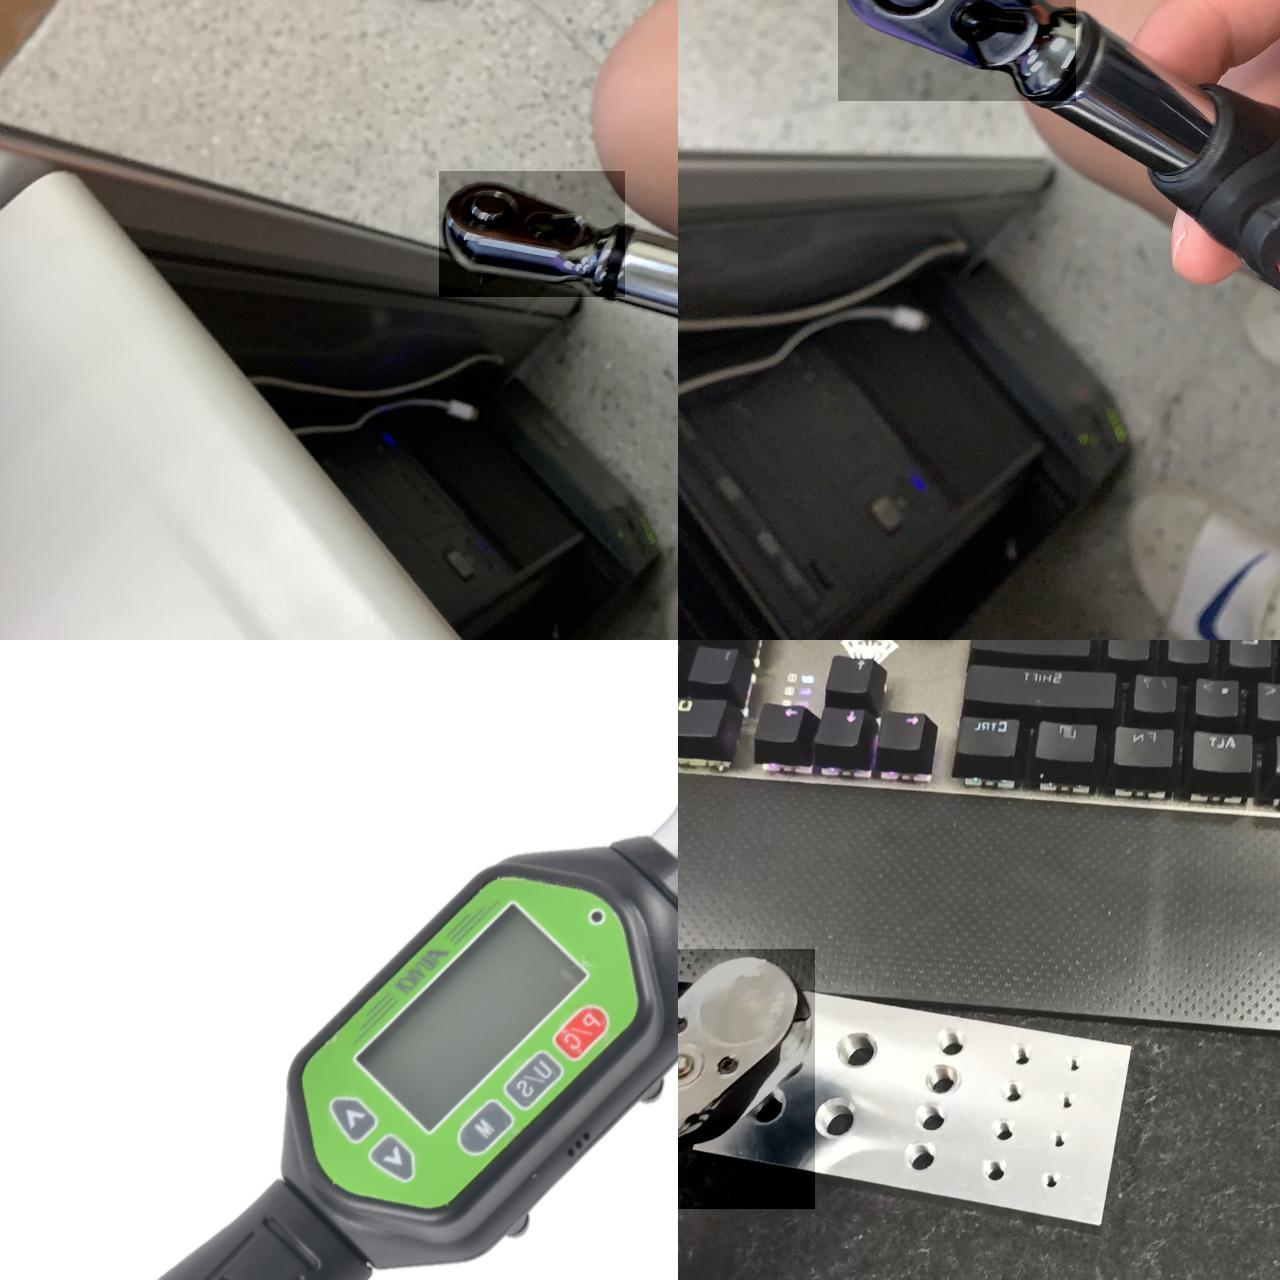Tool: (678, 949, 815, 1208), (838, 0, 1076, 101), (440, 171, 625, 297)
